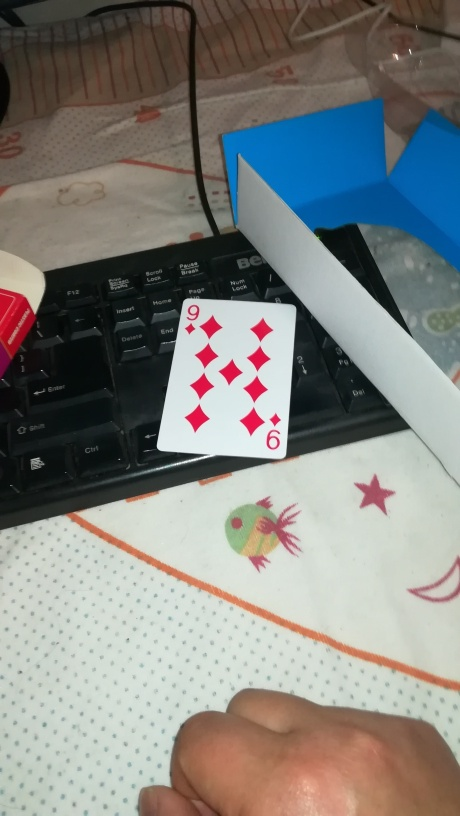fk 9: (157, 295, 299, 463)
